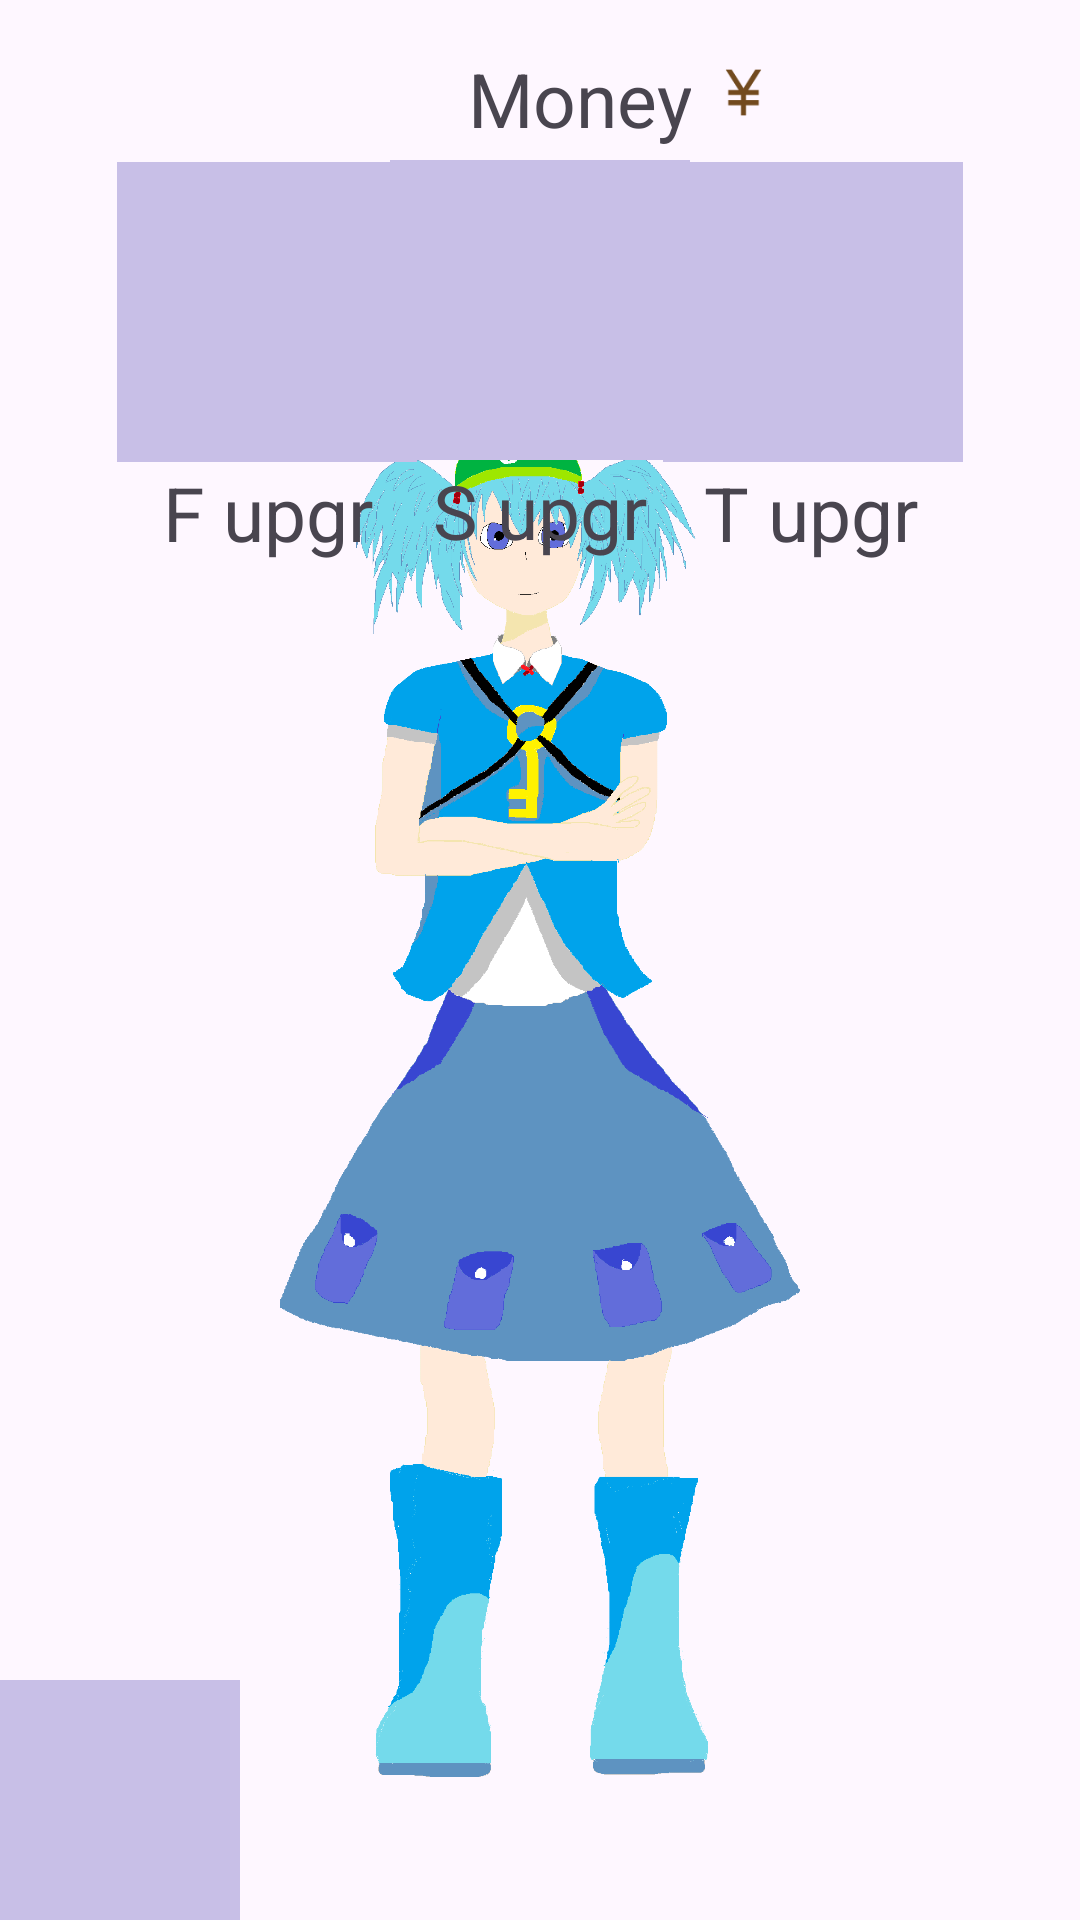

Screen size 1080px×1920px. Icon name, then its center in pixels as [x,y]:
yen: [743,92]
